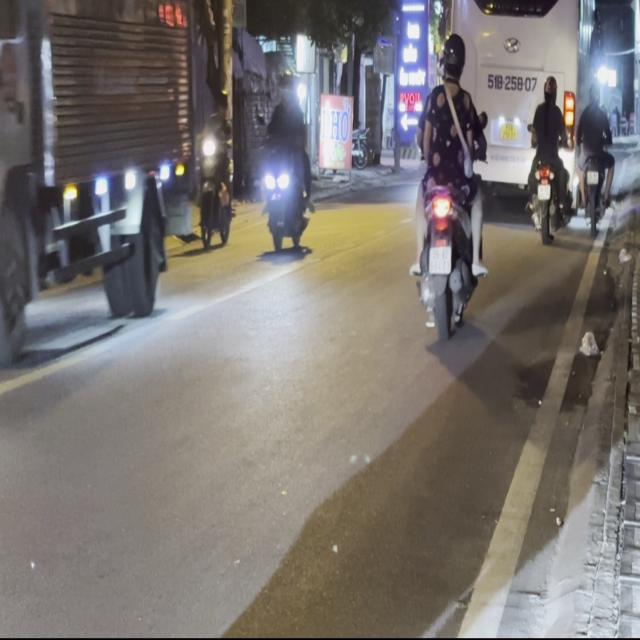helmet: (438, 31, 466, 83)
licenseplate: (407, 29, 488, 337)
nohelmet: (429, 247, 451, 274)
